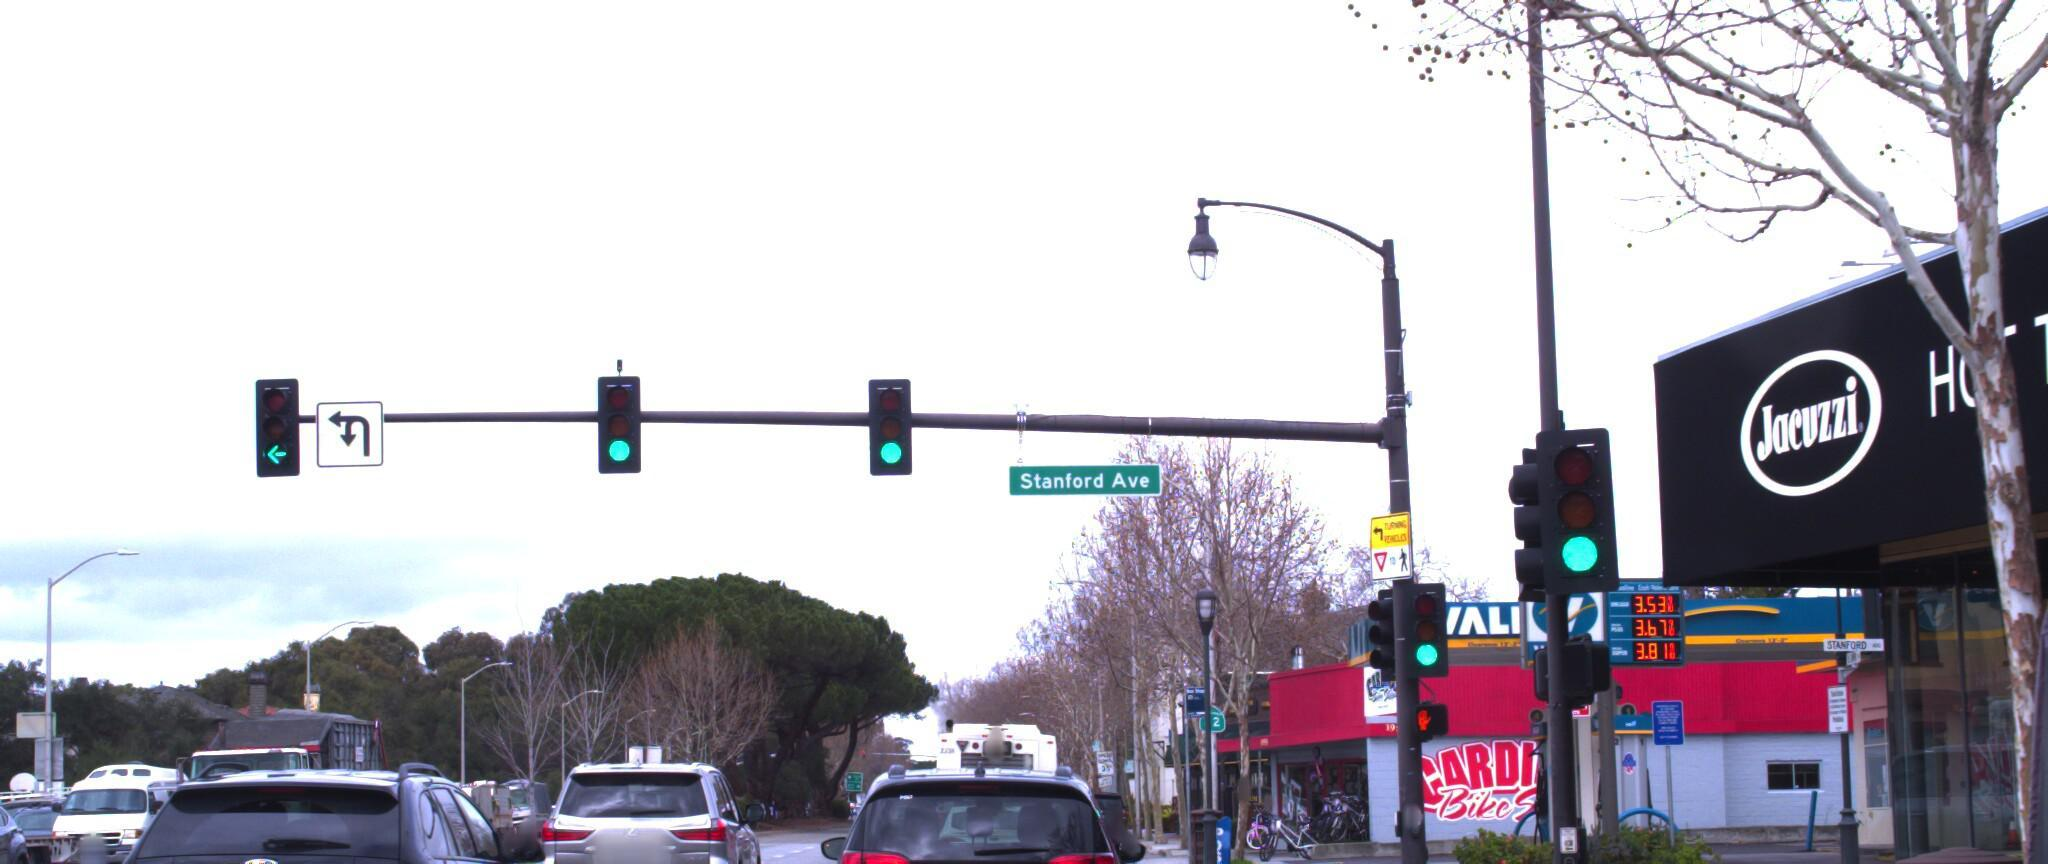car: (88, 737, 566, 864), (1866, 546, 2048, 864), (810, 728, 1142, 864), (532, 730, 785, 864), (48, 743, 217, 864), (0, 780, 56, 864)
truck: (172, 675, 414, 857), (0, 677, 97, 864), (929, 693, 1067, 820)
